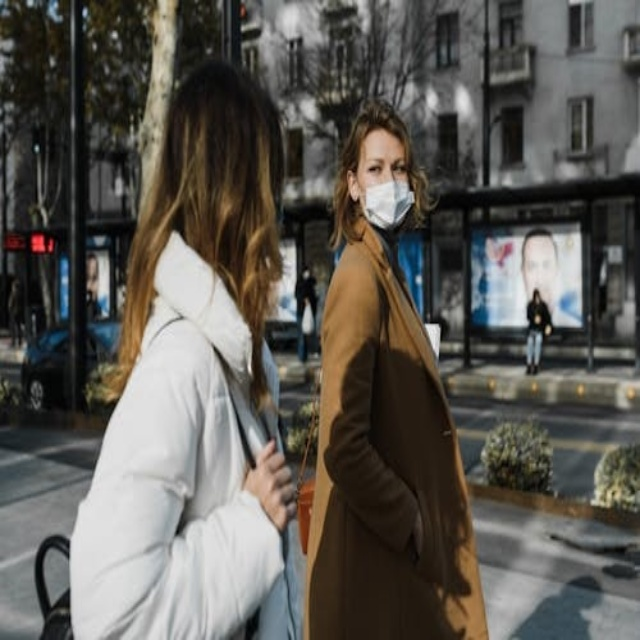Mascara: (362, 172, 419, 240)
Sin_gafas: (360, 146, 410, 178)
Sin_guantes: (243, 442, 299, 530)
